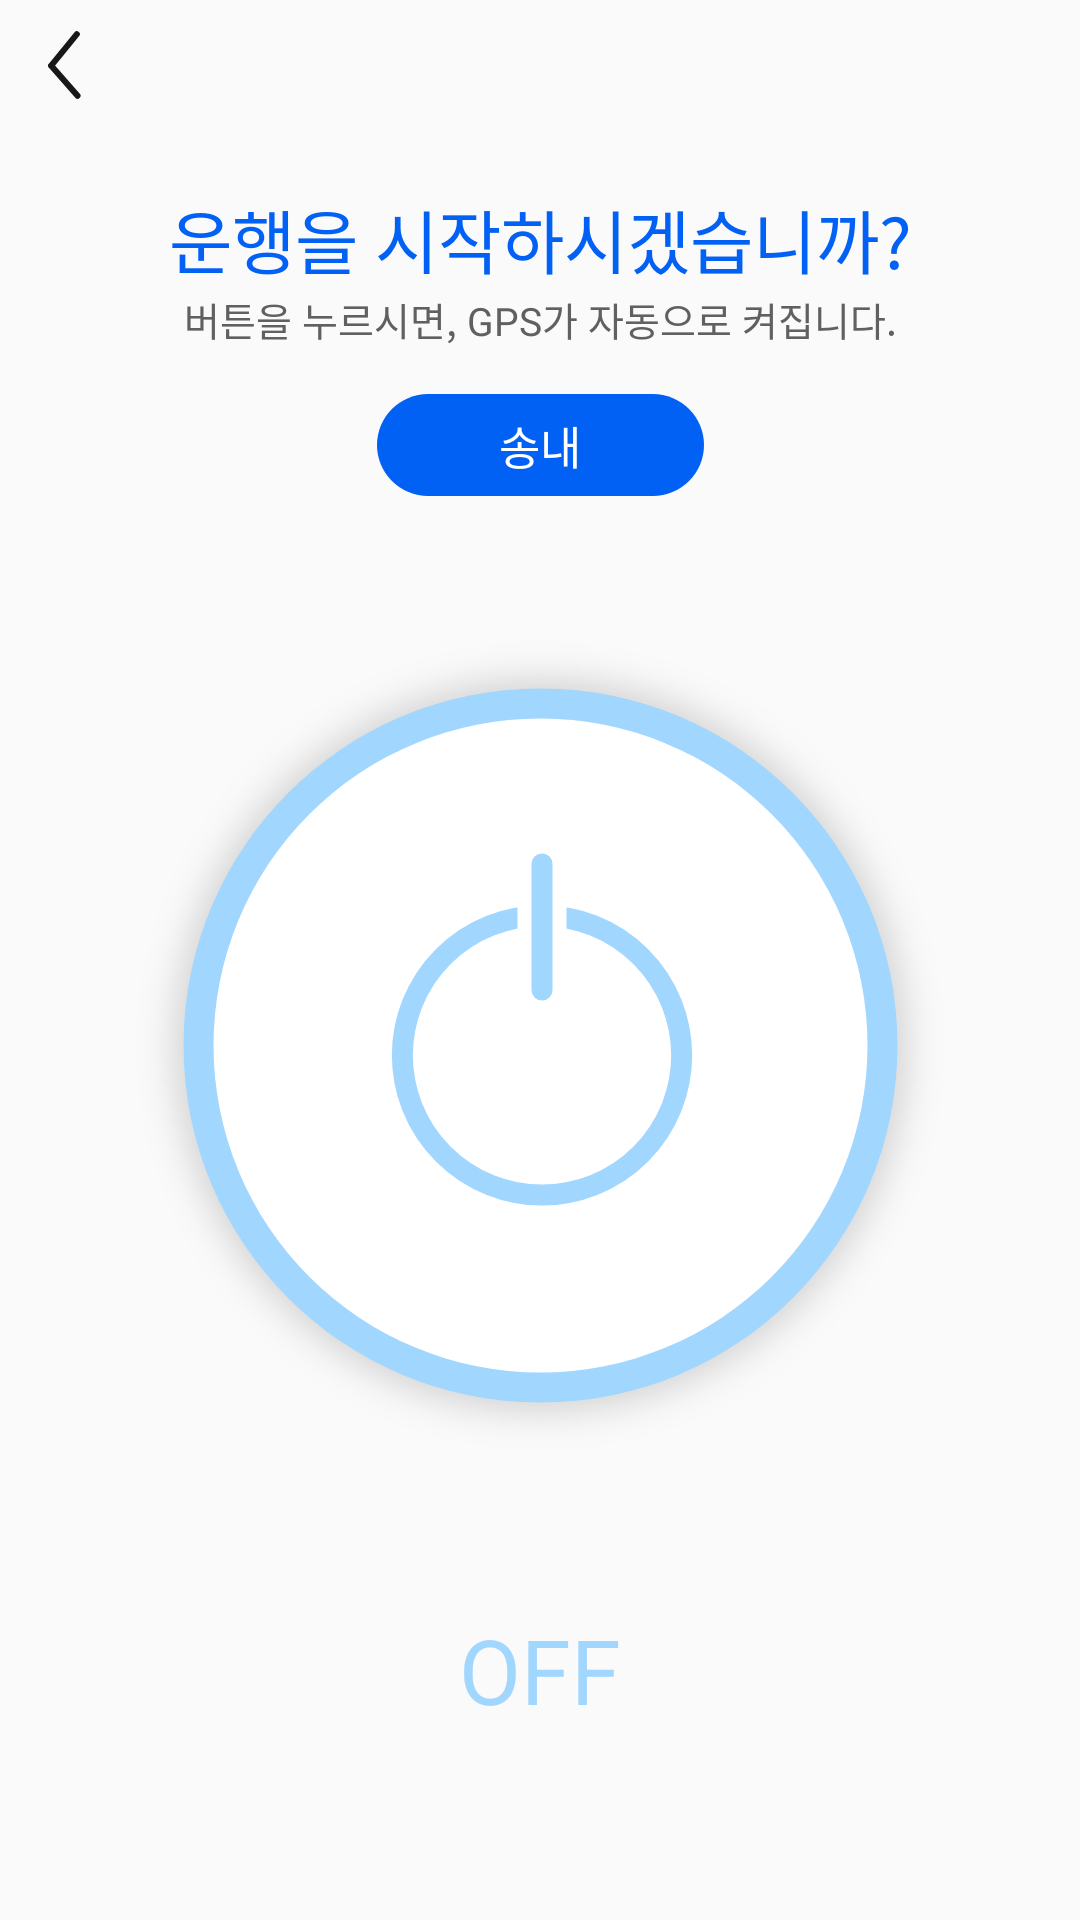

Screen size 1080*1920. Icon name, then its box in pixels as box=[x1, y1, x2, y2]:
back arrow: box=[48, 31, 81, 99]
